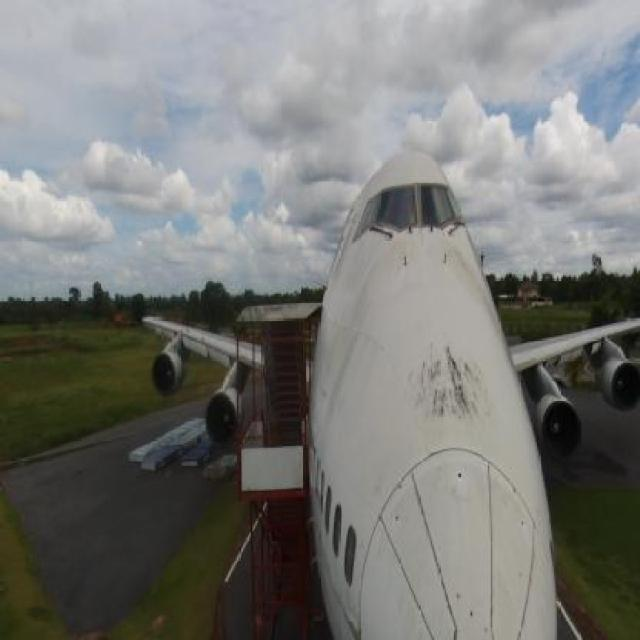Rust: (413, 348, 487, 432), (450, 248, 488, 332)
Scartch: (324, 252, 382, 405), (341, 601, 364, 640)
